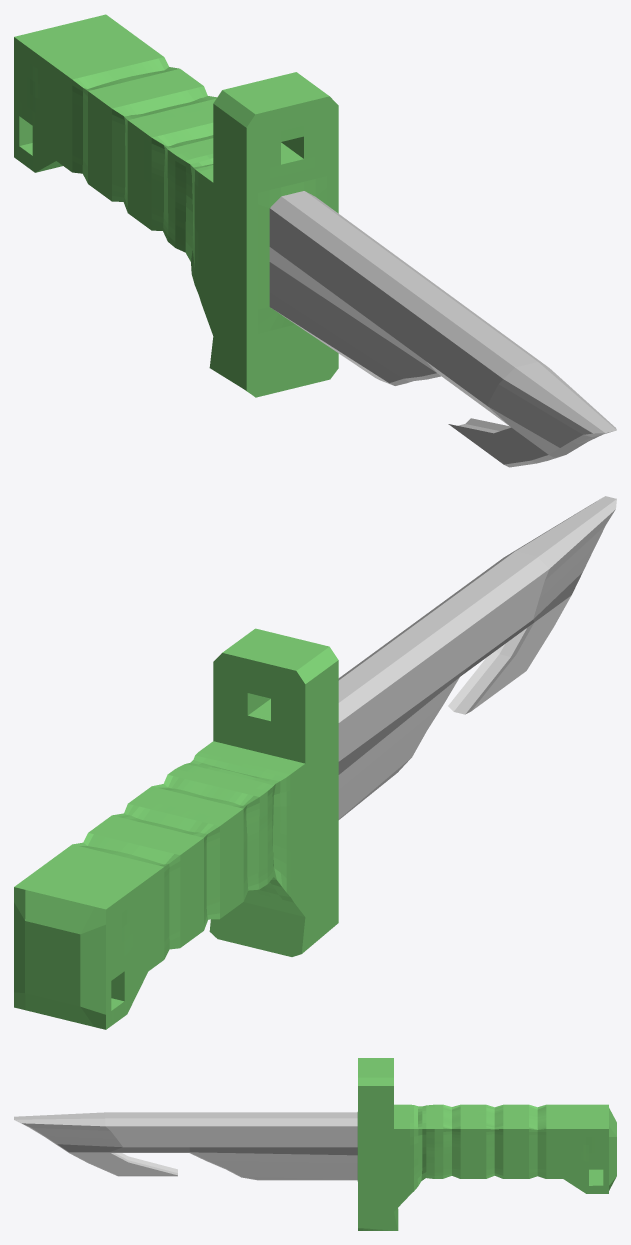
File: combat Knife.fbx
3 renders of one model, top to bottom at view 1: azimuth 30°, elevation 25°; view 2: azimuth 150°, elevation 25°; view 3: azimuth 270°, elevation 25°, orthographic. The views are drawn at different scales.
Visible parts, largest first — view 1: Combat Knife; view 2: Combat Knife; view 3: Combat Knife.
Boxes of the visible parts, x1=… form: Combat Knife: x1=14, y1=14, x2=616, y2=467; Combat Knife: x1=14, y1=496, x2=616, y2=1029; Combat Knife: x1=14, y1=1058, x2=616, y2=1230.
Bounding box in the file's own units: 160 × 471 × 1681.
